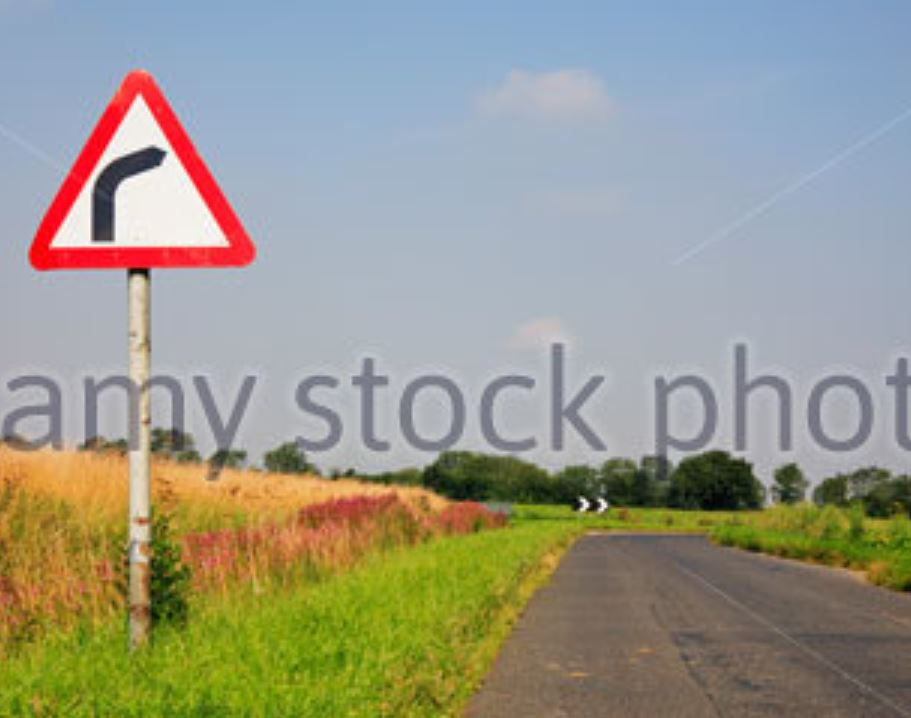Bend_to_right: (18, 63, 266, 278)
